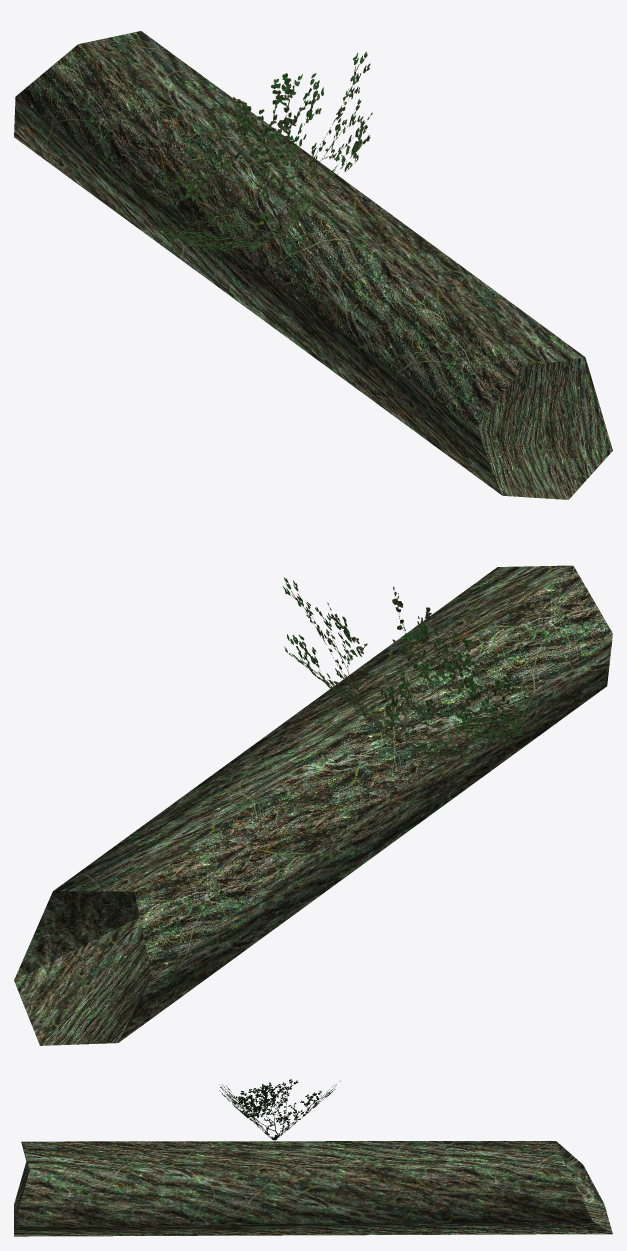
File: decd_dath_overgrownbranch_l1.fbx
The picture shows the model from 3 angles, top to bottom: view 1: azimuth 30°, elevation 25°; view 2: azimuth 150°, elevation 25°; view 3: azimuth 270°, elevation 25°; orthographic projection. The views are drawn at different scales.
Visible parts, largest first — view 1: mesh_node; view 2: mesh_node; view 3: mesh_node.
Part boxes in pixels (x1=…): mesh_node: x1=14, y1=31, x2=612, y2=499; mesh_node: x1=14, y1=565, x2=612, y2=1045; mesh_node: x1=14, y1=1079, x2=612, y2=1236.
Size of the model in its own units: 2.75 by 2.84 by 9.08.
